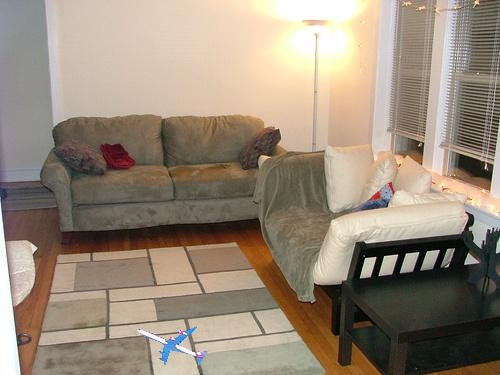tampered: (138, 327, 207, 365)
